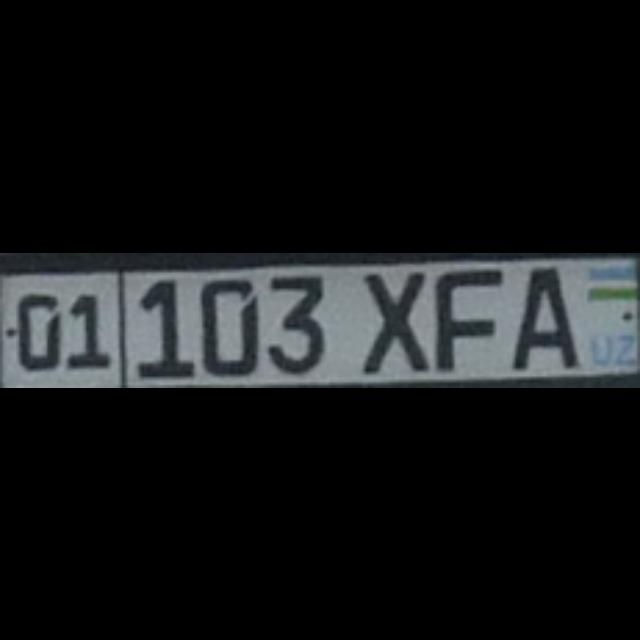0: (196, 274, 252, 372), (11, 288, 55, 366)
1: (134, 274, 188, 374), (64, 290, 106, 366)
3: (266, 271, 322, 371)
A: (510, 264, 576, 368)
F: (432, 266, 496, 370)
X: (360, 268, 426, 372)
